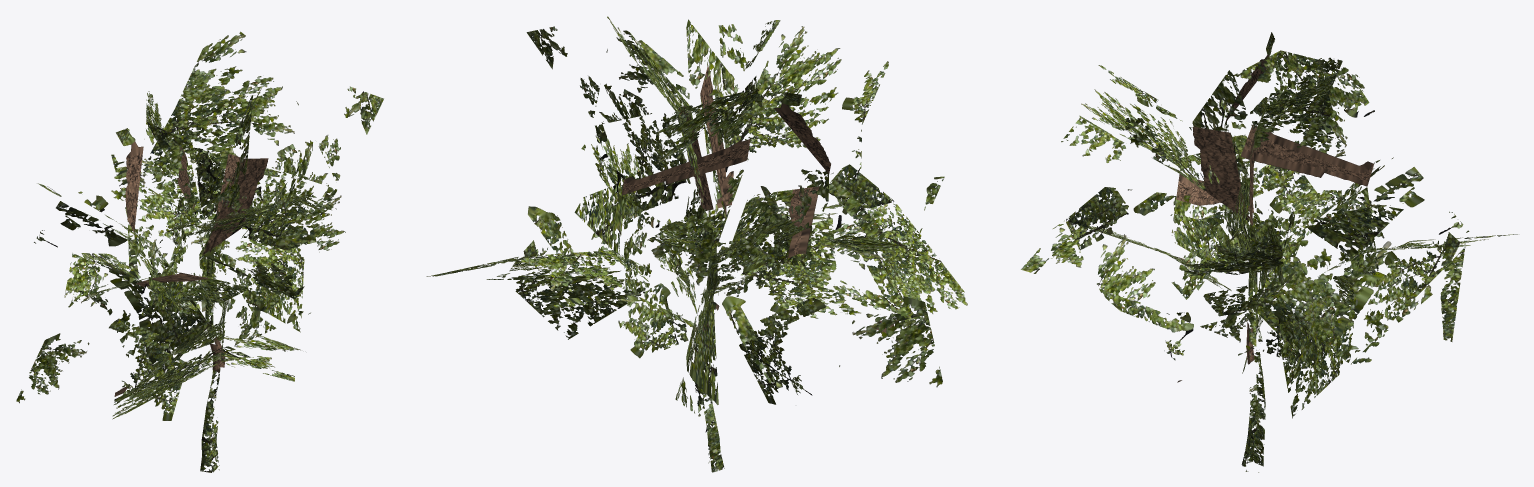
File: treeA.fbx
The picture shows the model from 3 angles, left to right: view 1: azimuth 30°, elevation 25°; view 2: azimuth 150°, elevation 25°; view 3: azimuth 270°, elevation 25°; orthographic projection. The views are drawn at different scales.
Visible parts, largest first — view 1: tree3.001; view 2: tree3.001; view 3: tree3.001.
Boxes of the visible parts, box(x1,y1,x2,y2) form: tree3.001: box(16, 31, 383, 472); tree3.001: box(426, 16, 967, 472); tree3.001: box(1021, 32, 1517, 472).
Size of the model in its own units: 1373 by 1463 by 1503.
